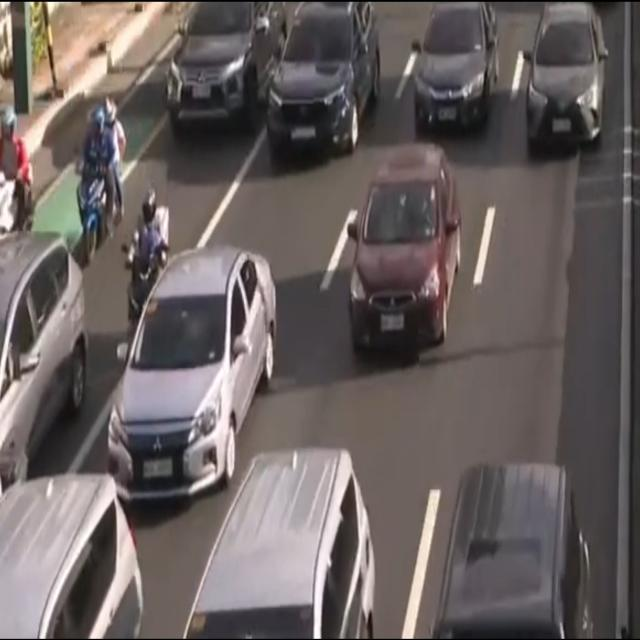Motorcycle: (74, 92, 124, 256), (0, 102, 46, 250), (130, 194, 165, 335)
SUV: (184, 449, 377, 640), (0, 231, 89, 481), (266, 2, 384, 161), (160, 3, 288, 128)
Sedan: (107, 245, 278, 497), (347, 146, 463, 353), (521, 2, 610, 149), (412, 1, 501, 132)
